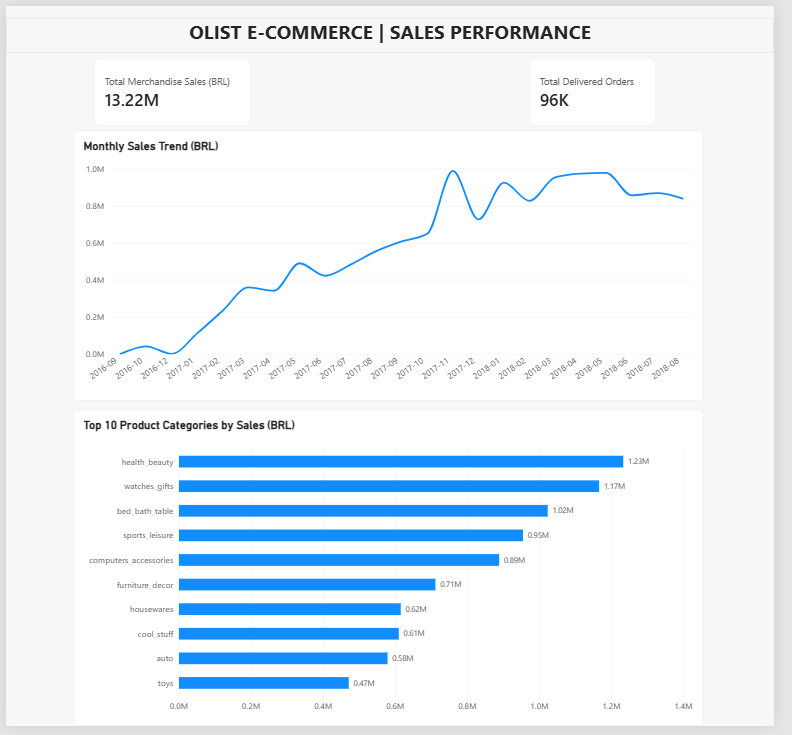

This screenshot's page, from the dashboard's own definition file:
{"tool":"powerbi","page":{"name":"Sales Performance","canvas":[1280,1200],"ordinal":0},"visuals":[{"type":"textbox","box":[0,20.7,1280.4,56.3],"z":0},{"type":"lineChart","title":"Monthly Sales Trend (BRL)","fields":{"Category":["olist_ecommerce vw_olist_monthly_sales.purchase_month"],"Y":["Sum(olist_ecommerce vw_olist_monthly_sales.merchandise_sales_brl)"]},"box":[112.6,207.3,1049.8,450.6],"z":1000},{"type":"cardVisual","title":"Total Merchandise Sales (BRL)","fields":{"Data":["Sum(olist_ecommerce vw_olist_monthly_sales.merchandise_sales_brl)"]},"box":[148.3,86.4,261,112.6],"z":2000},{"type":"cardVisual","fields":{"Data":["Sum(olist_ecommerce vw_olist_monthly_sales.delivered_orders)"]},"box":[873,86.4,210.3,112.6],"z":3000},{"type":"clusteredBarChart","title":"Top 10 Product Categories by Sales (BRL)","fields":{"Category":["olist_ecommerce vw_olist_category_sales.product_category"],"Y":["Sum(olist_ecommerce vw_olist_category_sales.merchandise_sales_brl)"]},"box":[112.6,673.6,1049.8,527.2],"z":4000}]}

Visuals, with their boxes in screenshot pixels (x1, y1, x2, y2), scaled from the page's 1280x1200 canvas onto the 792x735 screenshot:
textbox: 0 13 791 47
"Monthly Sales Trend (BRL)" lineChart: 70 127 719 403
"Total Merchandise Sales (BRL)" cardVisual: 92 53 253 122
cardVisual - Sum(olist_ecommerce vw_olist_monthly_sales.delivered_orders): 540 53 670 122
"Top 10 Product Categories by Sales (BRL)" clusteredBarChart: 70 413 719 734
